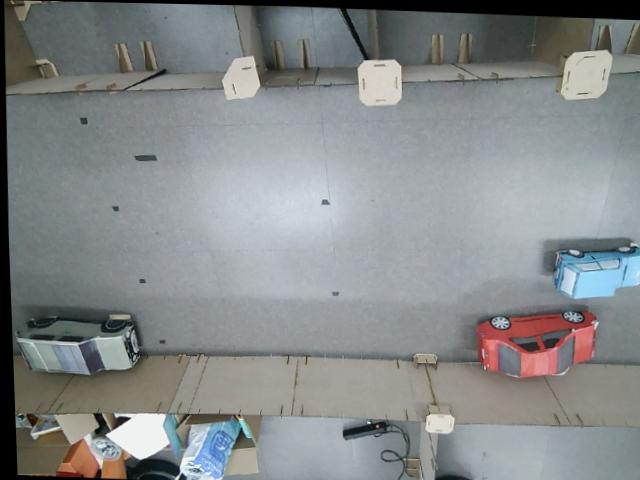car: (473, 302, 602, 383), (12, 312, 144, 378), (548, 239, 640, 302)
